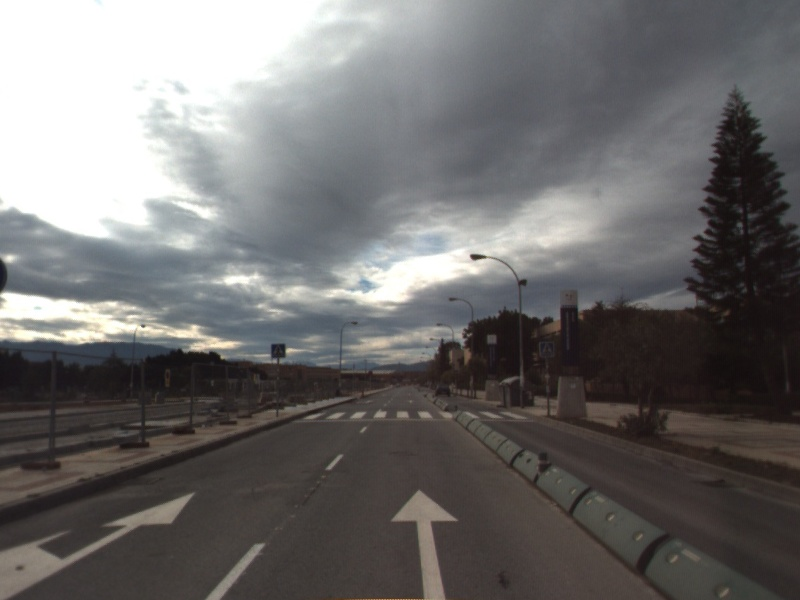STRAIGHT: (388, 486, 462, 600)
STRAIGHT_LEFT: (1, 487, 200, 600)
